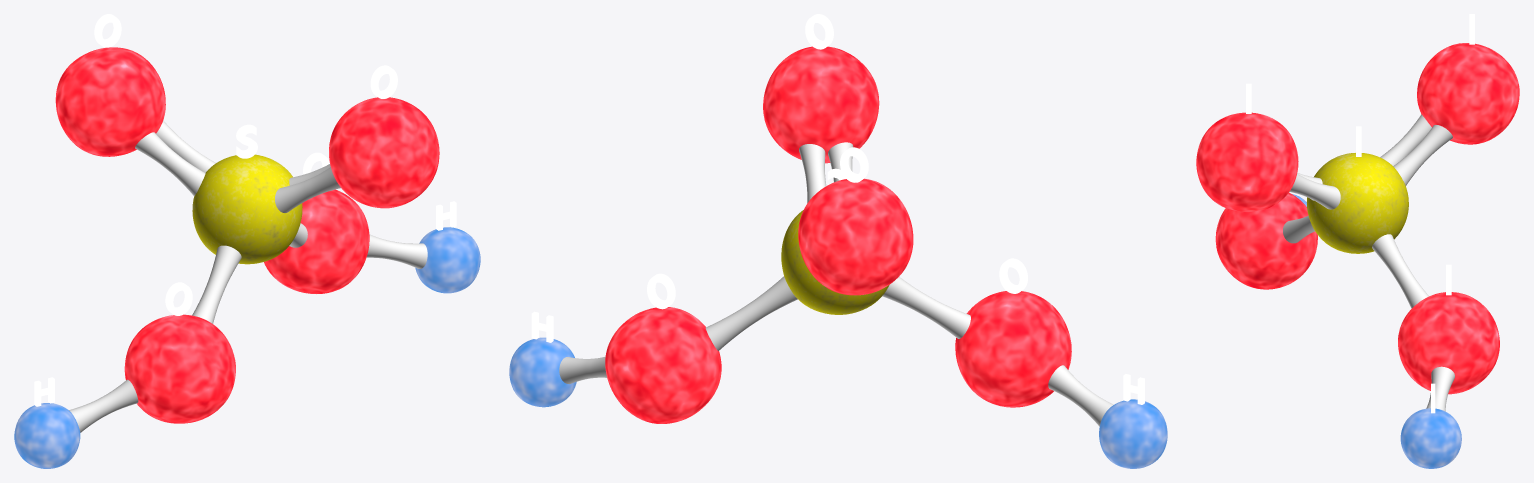
3 views of the same model, side by side, from view 1: azimuth 30°, elevation 25°; view 2: azimuth 150°, elevation 25°; view 3: azimuth 270°, elevation 25° (orthographic). The views are drawn at different scales.
Parts seen in each view (by area): view 1: jednosytne_kyseliny.010; view 2: jednosytne_kyseliny.010; view 3: jednosytne_kyseliny.010.
Part boxes in pixels (x1=…): jednosytne_kyseliny.010: x1=14, y1=14, x2=480, y2=468; jednosytne_kyseliny.010: x1=509, y1=14, x2=1167, y2=468; jednosytne_kyseliny.010: x1=1196, y1=14, x2=1519, y2=468.
Size of the model in its own units: 6.93 by 4.13 by 3.93.
5 materials, 3 textured.
